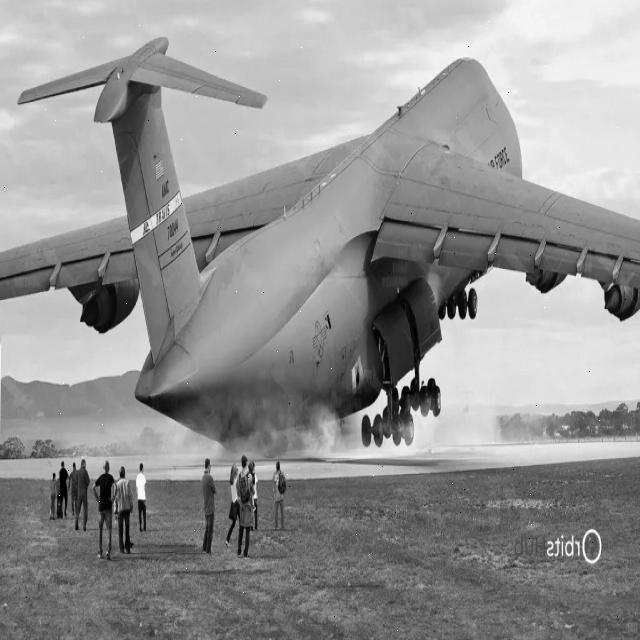C5: (0, 21, 637, 468)
